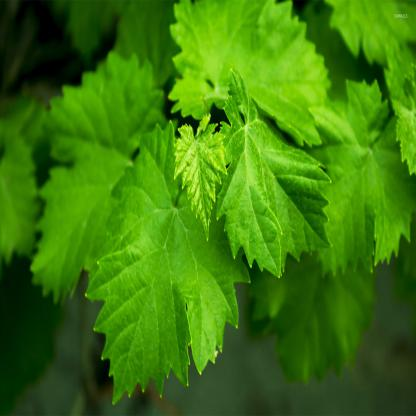grape leaf: (91, 129, 234, 408), (220, 72, 326, 272), (174, 111, 228, 245)
